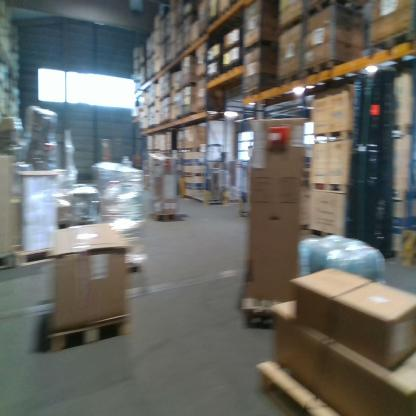pallet: (254, 359, 340, 416), (42, 312, 134, 357), (366, 27, 415, 57), (241, 293, 277, 329), (299, 57, 349, 81), (304, 1, 364, 21), (12, 243, 56, 266), (55, 214, 101, 231), (120, 252, 148, 279), (312, 128, 356, 144), (241, 37, 277, 56), (385, 119, 416, 141), (309, 178, 346, 196), (277, 16, 304, 37), (275, 69, 303, 89), (241, 84, 272, 102), (389, 184, 413, 206), (1, 247, 21, 273), (308, 225, 334, 241), (149, 212, 182, 222), (222, 61, 243, 76), (223, 38, 241, 55), (180, 168, 205, 180), (206, 53, 222, 67), (207, 68, 221, 84), (194, 69, 207, 82), (182, 145, 205, 152), (219, 5, 231, 18), (182, 81, 195, 90)
